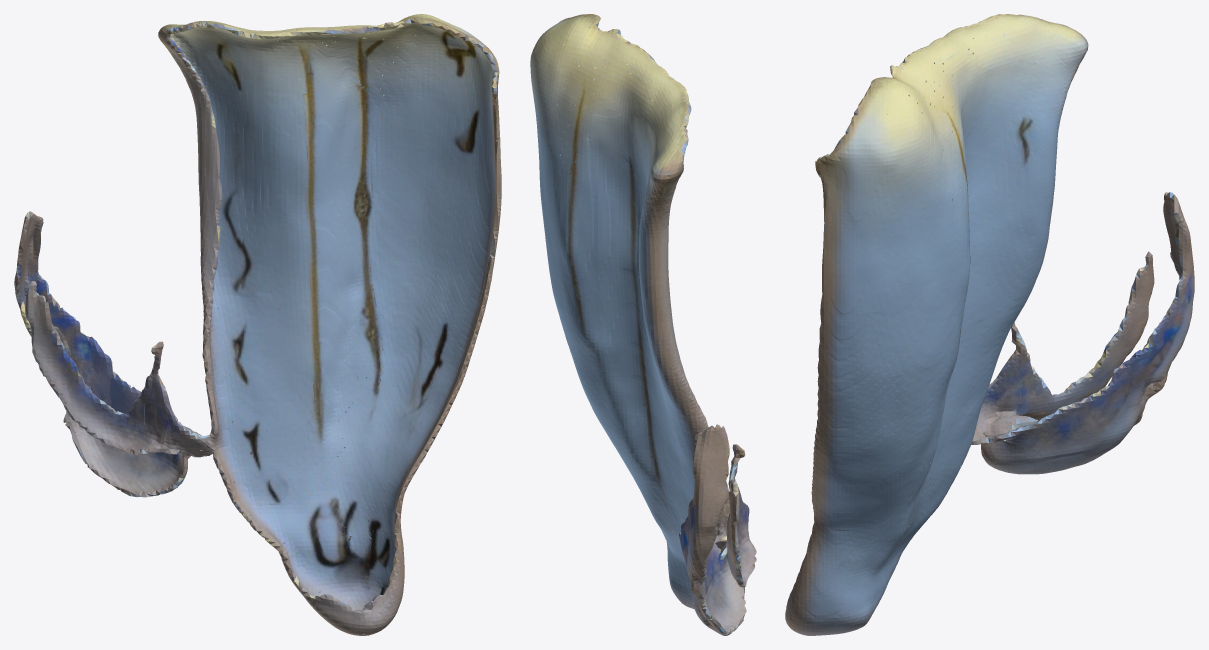
3 renders of one model, left to right at view 1: azimuth 30°, elevation 25°; view 2: azimuth 150°, elevation 25°; view 3: azimuth 270°, elevation 25°, orthographic. The views are drawn at different scales.
Parts seen in each view (by area): view 1: Hy21_Mesh.obj; view 2: Hy21_Mesh.obj; view 3: Hy21_Mesh.obj.
Part boxes in pixels (box(x1,y1,x2,y2)): Hy21_Mesh.obj: box(14, 14, 501, 635); Hy21_Mesh.obj: box(530, 14, 756, 635); Hy21_Mesh.obj: box(785, 14, 1194, 635).
Size of the model in its own units: 0.7371 by 1.22 by 0.754.
Materials: 1 (1 with a texture image).
